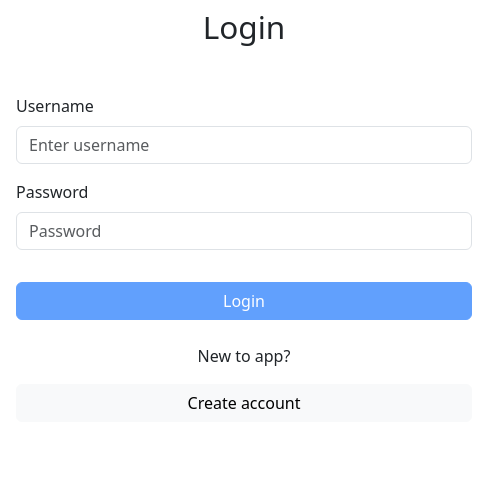
Login component › displays error if login fails
Type "testuser" into the field with placeholder "Enter username".
click(244, 145); type("testuser")  # box x1=16 y1=126 x2=472 y2=164
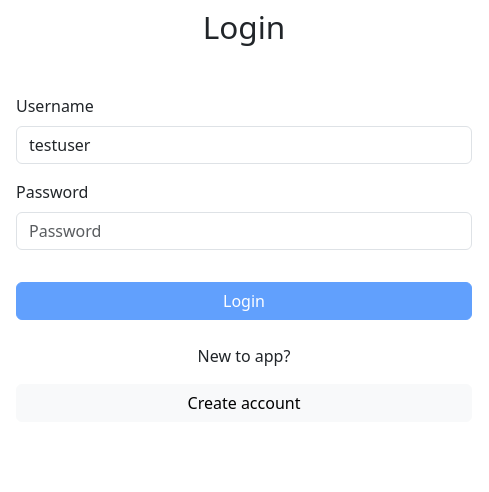
Type "testpass" into the password field with placeholder "Password".
click(244, 231); type("testpass")  # box x1=16 y1=212 x2=472 y2=250
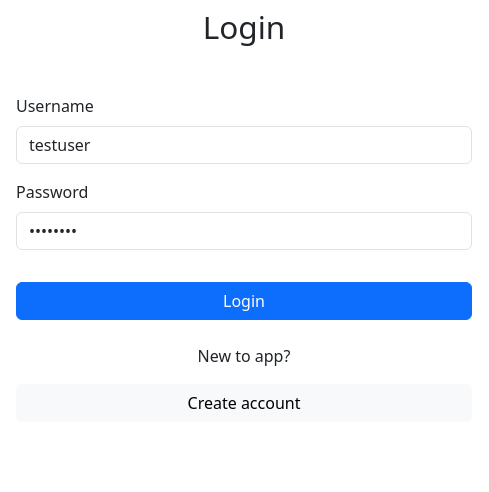
Click the button "Login".
click(244, 301)  # box x1=16 y1=282 x2=472 y2=320
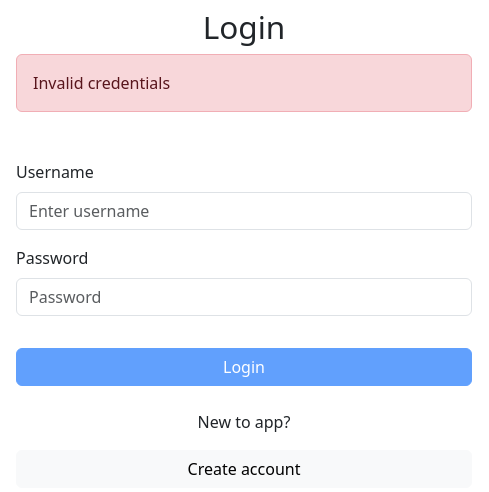
Check: the text "Invalid credentials" is shown, box x1=16 y1=54 x2=472 y2=112
